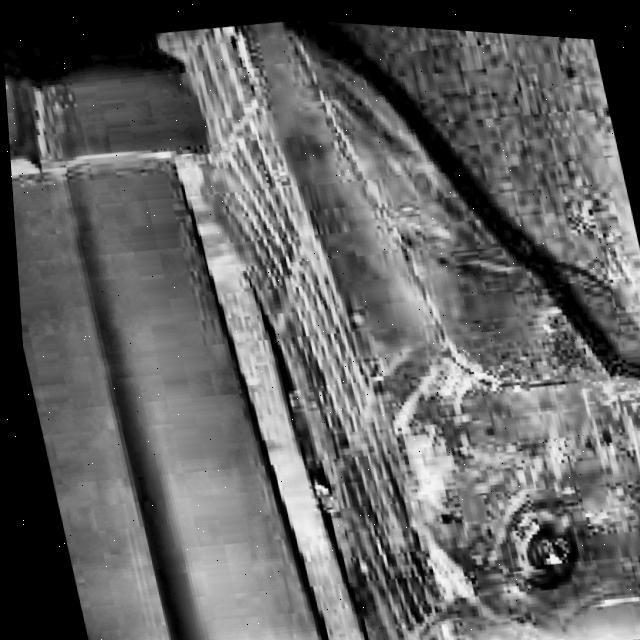bumper_dent: (396, 334, 640, 640)
